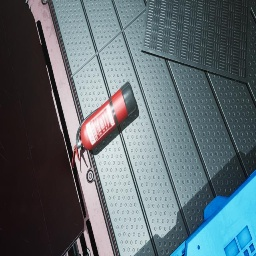FireExtinguisher ]: (72, 81, 136, 168)
